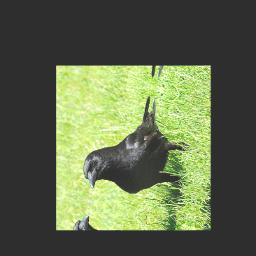Crow: (79, 81, 196, 215)
